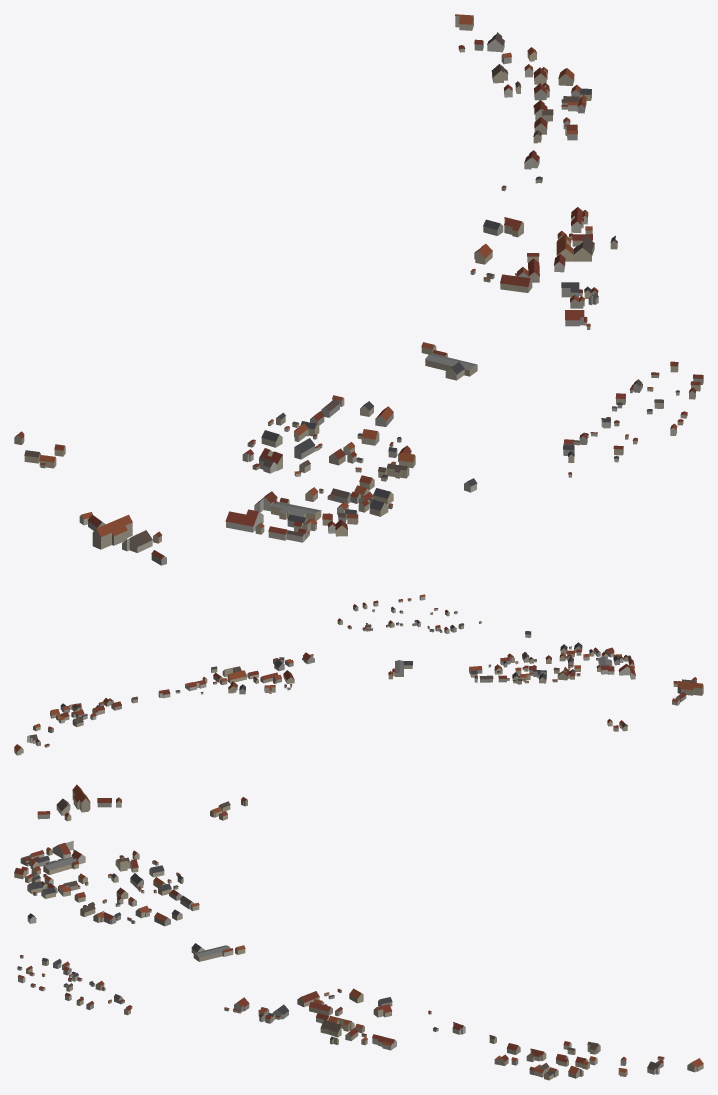
3 views of the same model, one above another, from view 1: azimuth 30°, elevation 25°; view 2: azimuth 150°, elevation 25°; view 3: azimuth 270°, elevation 25° (orthographic). The views are drawn at different scales.
Visible parts, largest first — view 1: buildings; view 2: buildings; view 3: buildings.
Part boxes in pixels (x1,y1,x2,y2): buildings: [14, 14, 703, 565]; buildings: [14, 594, 703, 755]; buildings: [14, 784, 703, 1080].
Bounding box in the file's own units: 814 × 40.61 × 815.
